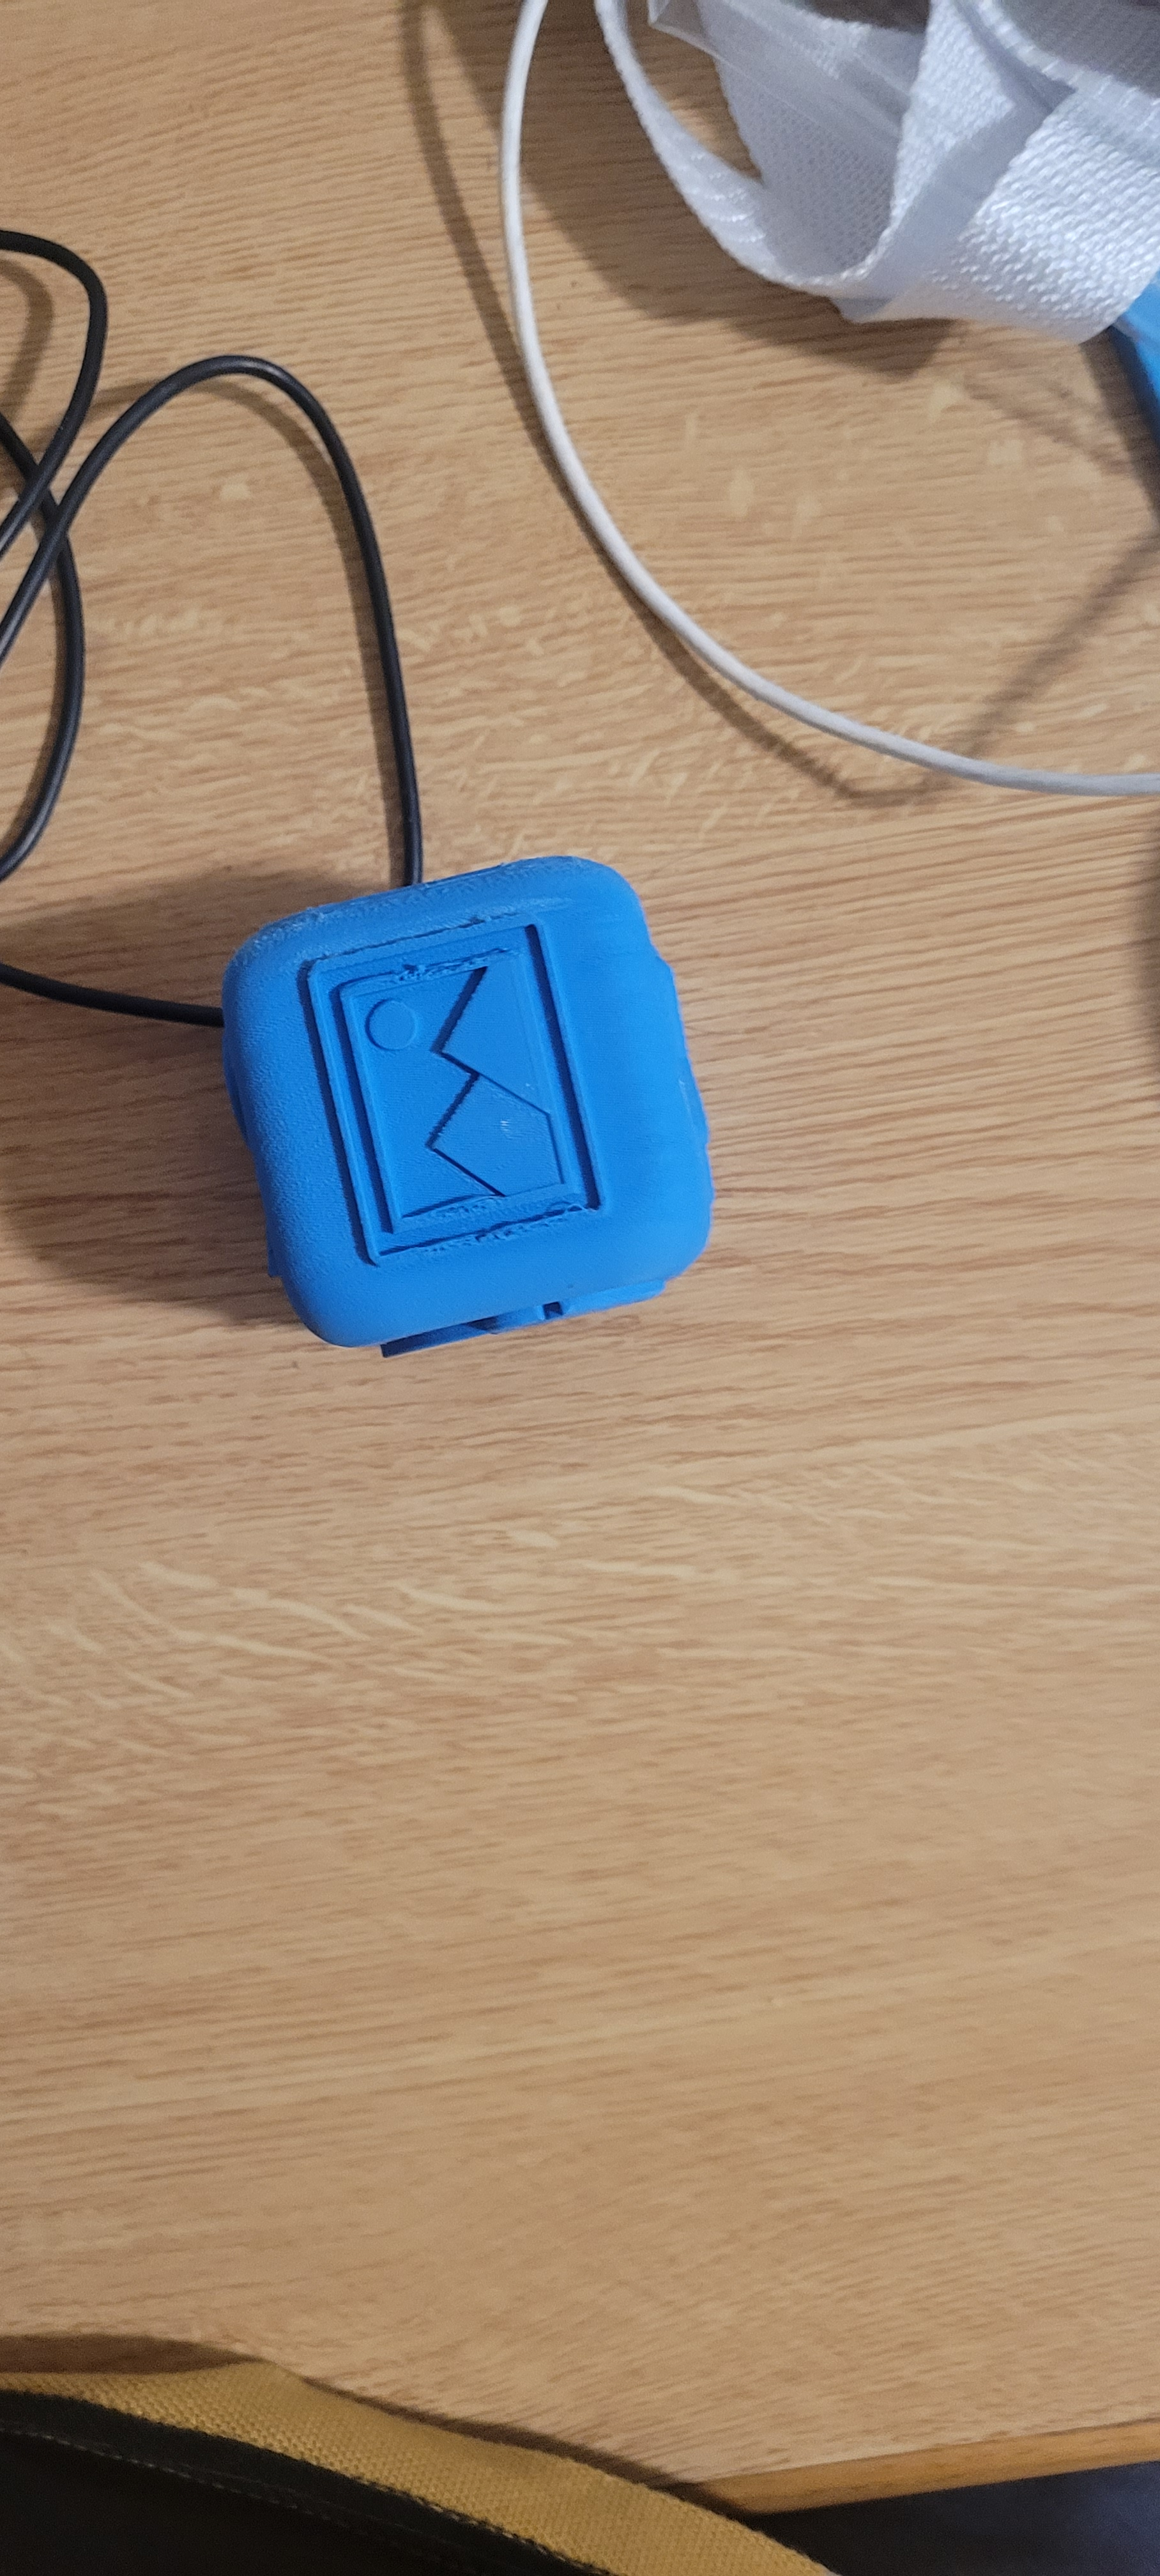Story: (281, 871, 588, 1288)
